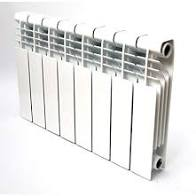Radiator: (13, 9, 176, 181)
